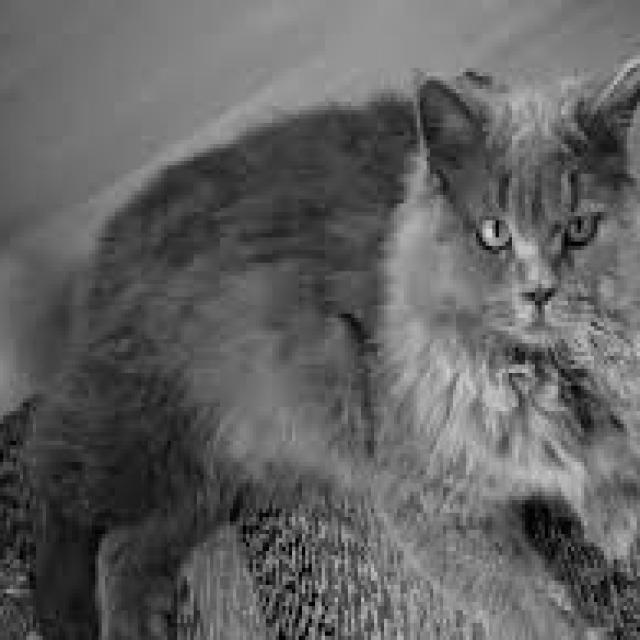british: (348, 13, 640, 394)
